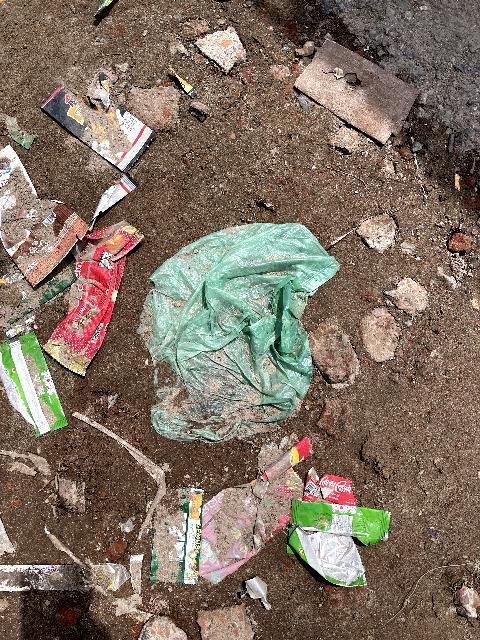polythene: (123, 238, 353, 432)
